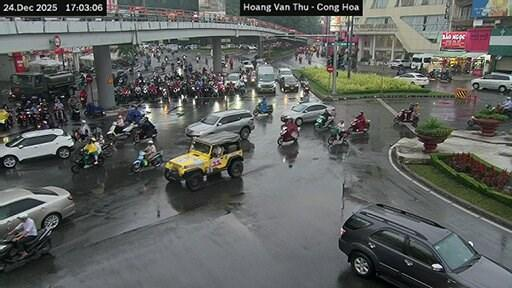motorbike: (0, 229, 51, 270), (70, 151, 103, 172), (131, 151, 162, 171), (105, 121, 135, 139), (327, 124, 348, 144), (394, 108, 418, 124), (278, 125, 298, 144), (134, 127, 156, 142), (348, 118, 370, 131), (83, 103, 105, 116), (313, 115, 332, 130), (0, 108, 12, 129), (252, 103, 271, 115), (297, 85, 309, 103), (54, 108, 66, 121), (70, 106, 80, 120), (18, 112, 28, 125), (438, 72, 451, 81), (468, 116, 476, 126), (80, 93, 86, 106), (298, 77, 307, 85), (237, 85, 245, 94)
